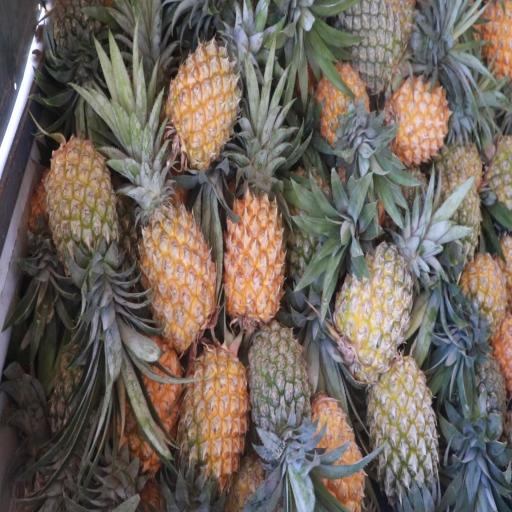------------------------------: (369, 362, 437, 507), (338, 248, 412, 378)
Pineapple - v8 v1: (143, 180, 218, 348), (50, 134, 118, 278), (225, 186, 287, 334), (183, 347, 249, 486), (172, 42, 245, 167), (120, 346, 183, 466), (306, 405, 364, 511), (395, 79, 454, 165), (319, 72, 375, 158), (460, 254, 506, 348)
